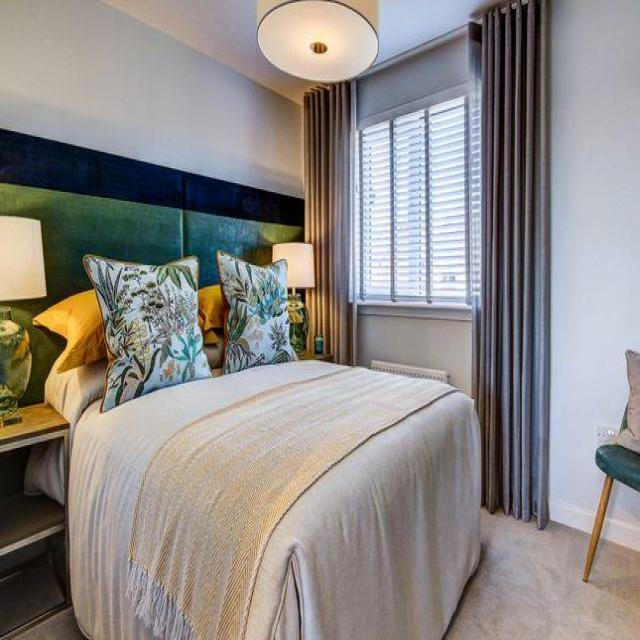Wall: (0, 0, 302, 196), (549, 0, 640, 532), (549, 0, 640, 530), (445, 508, 640, 638), (104, 0, 309, 102), (358, 316, 471, 395), (375, 0, 495, 63), (602, 484, 640, 548), (15, 607, 85, 640)
